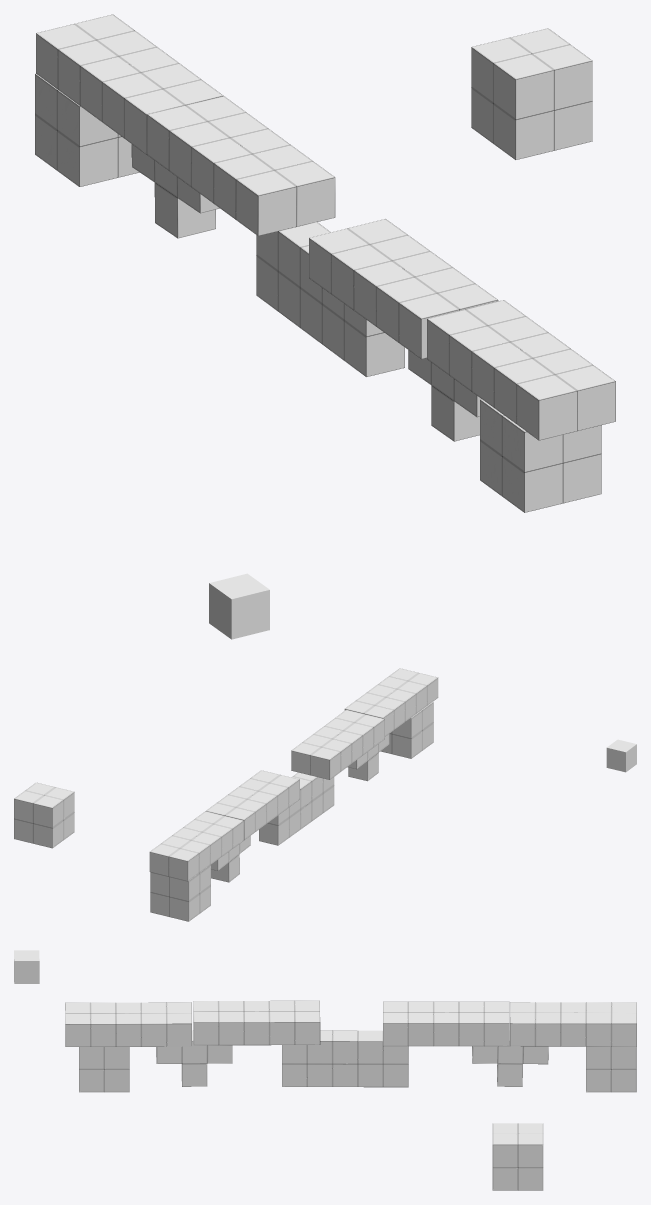
The picture shows the model from 3 angles, top to bottom: view 1: azimuth 30°, elevation 25°; view 2: azimuth 150°, elevation 25°; view 3: azimuth 270°, elevation 25°; orthographic projection. The views are drawn at different scales.
Parts seen in each view (by area): view 1: GridPlank_0:1, GridPlank_0:4, GridPlank_0:2, GridCube_0, GridPlank_0, GridPlank_0:3, Plane/BasicEnvironment/StartCube-1, Plane/BasicEnvironment/StartCube-2, GridTShape_0, GridSmallCube_0, GridTShape_0:1; view 2: GridPlank_0, GridPlank_0:2, GridCube_0, GridPlank_0:4, GridPlank_0:1, GridPlank_0:3, Plane/BasicEnvironment/StartCube-2, Plane/BasicEnvironment/StartCube-1, GridTShape_0, GridSmallCube_0, GridTShape_0:1; view 3: GridPlank_0:3, GridPlank_0:4, GridPlank_0:2, GridPlank_0, GridPlank_0:1, GridCube_0, Plane/BasicEnvironment/StartCube-2, Plane/BasicEnvironment/StartCube-1, GridTShape_0:1, GridTShape_0, GridSmallCube_0.
Part boxes in pixels (x1,y1,x2,y2): GridPlank_0:1: (427, 300, 615, 440); GridPlank_0:4: (147, 96, 335, 235); GridPlank_0:2: (309, 219, 498, 359); GridCube_0: (471, 28, 592, 159); GridPlank_0: (36, 14, 223, 154); GridPlank_0:3: (256, 222, 404, 376); Plane/BasicEnvironment/StartCube-1: (480, 399, 601, 512); Plane/BasicEnvironment/StartCube-2: (35, 74, 139, 186); GridTShape_0: (131, 144, 219, 238); GridSmallCube_0: (209, 573, 269, 639); GridTShape_0:1: (408, 350, 481, 441); GridPlank_0: (149, 811, 243, 881); GridPlank_0:2: (291, 709, 384, 779); GridCube_0: (14, 782, 74, 848); GridPlank_0:4: (206, 770, 299, 840); GridPlank_0:1: (344, 668, 438, 736); GridPlank_0:3: (259, 772, 334, 845); Plane/BasicEnvironment/StartCube-2: (150, 865, 210, 921); Plane/BasicEnvironment/StartCube-1: (380, 702, 433, 758); GridTShape_0: (211, 836, 250, 882); GridSmallCube_0: (606, 739, 636, 772); GridTShape_0:1: (347, 734, 389, 781); GridPlank_0:3: (282, 1030, 408, 1087); GridPlank_0:4: (383, 1001, 509, 1046); GridPlank_0:2: (193, 1000, 320, 1045); GridPlank_0: (510, 1002, 636, 1046); GridPlank_0:1: (65, 1002, 191, 1046); GridCube_0: (492, 1123, 543, 1190); Plane/BasicEnvironment/StartCube-2: (586, 1046, 636, 1092); Plane/BasicEnvironment/StartCube-1: (79, 1047, 129, 1092); GridTShape_0:1: (156, 1030, 232, 1086); GridTShape_0: (472, 1030, 548, 1086); GridSmallCube_0: (14, 950, 39, 983).
Bounding box in the file's own units: 2.03 × 0.3018 × 2.46.
